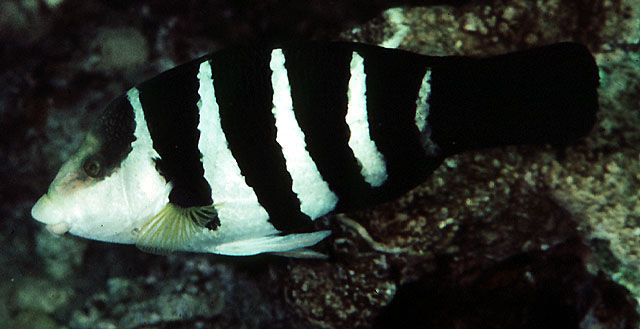fish: (31, 42, 600, 256)
